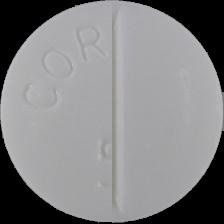59762-0073: (0, 0, 224, 224)
